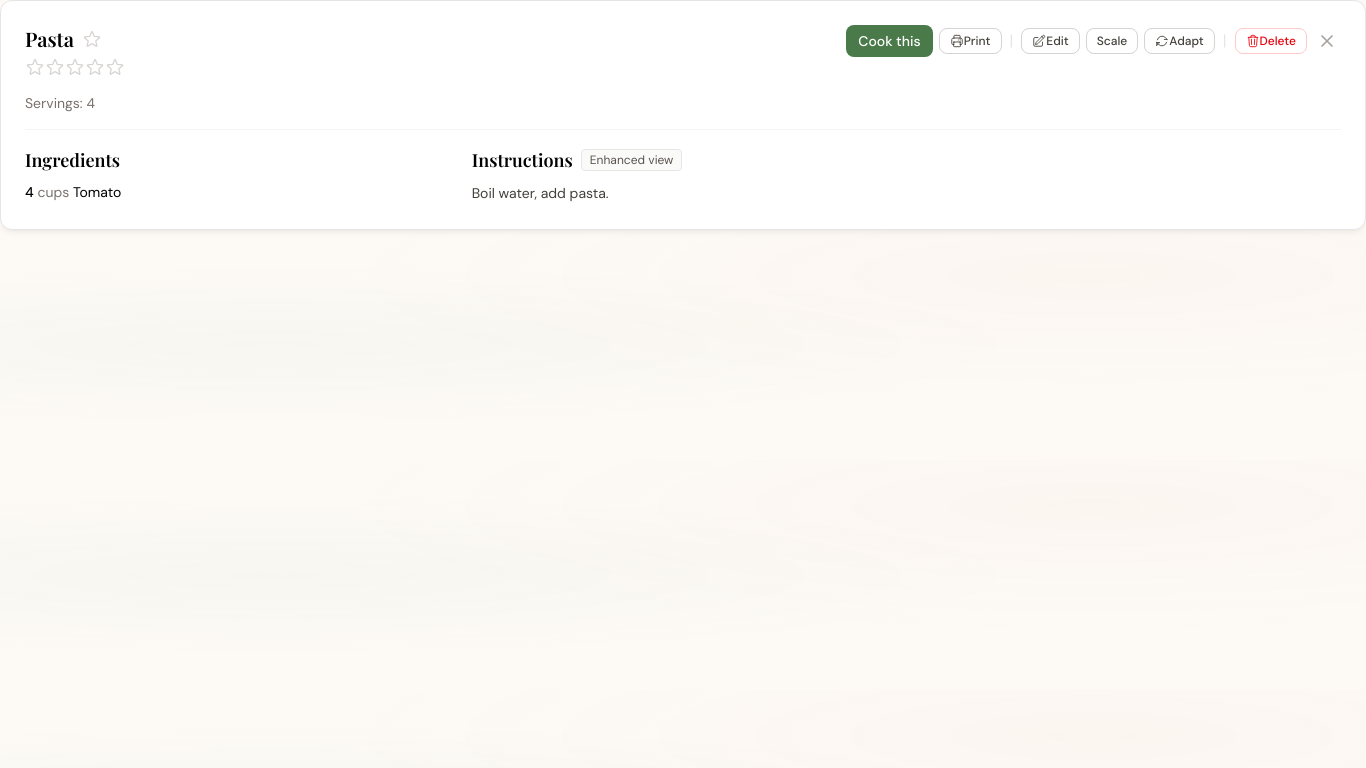
Test: RecipeDetail enhanced-view failure handling › keeps the original instructions visible and stays out of enhanced mode when the enhance POST fails (500)
Expected: the text "Boil water, add pasta." is shown, [472,184,609,202]
Step 1. Click the button "Enhanced view" → (632, 160), box [581,149,682,171]
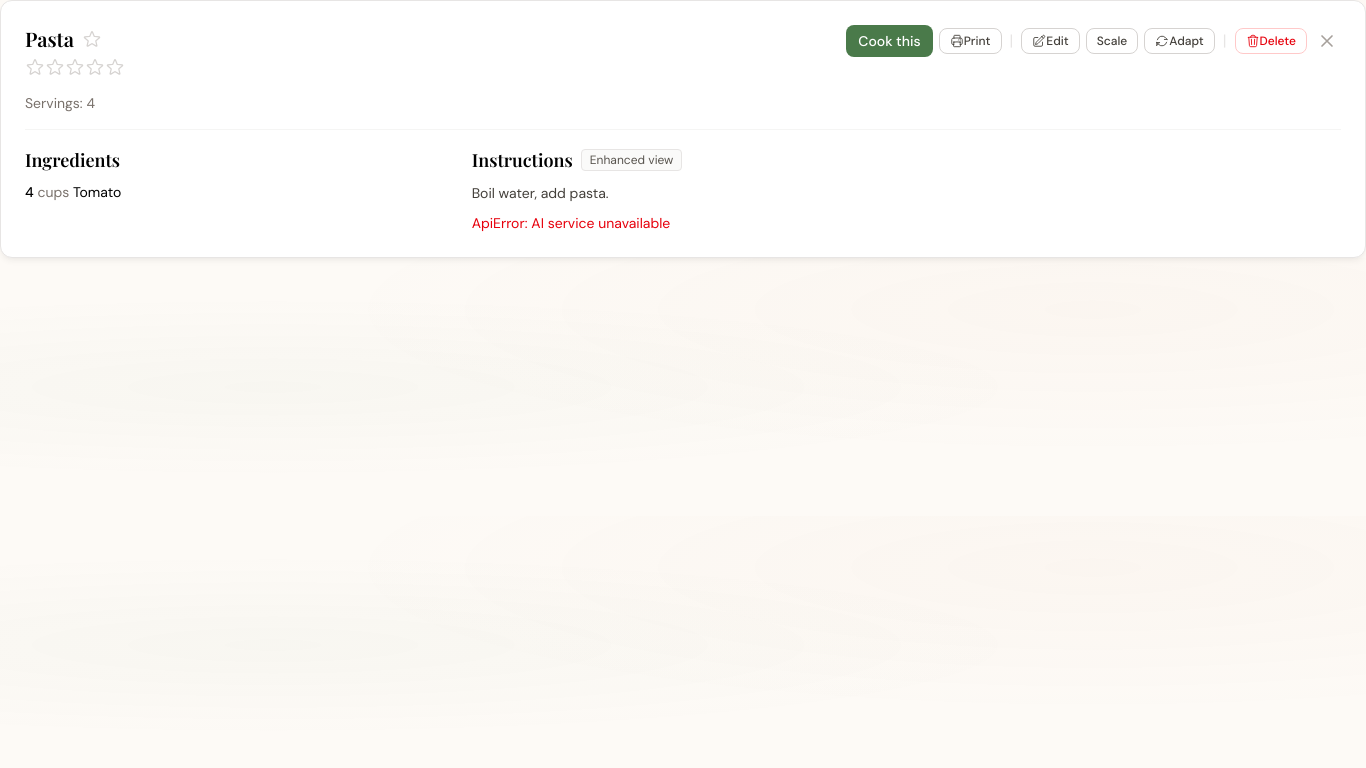
Expected: the text "Boil water, add pasta." is shown, [472,184,609,202]
Now the text "ApiError: AI service unavailable" is shown, box [472,214,670,232]
